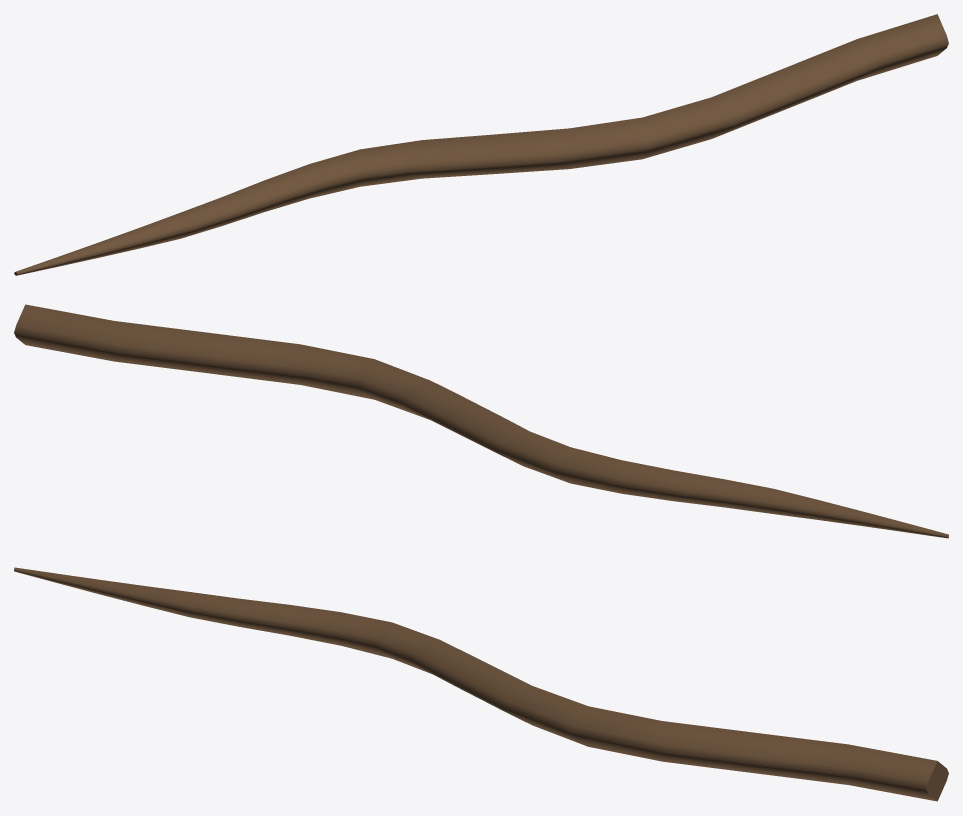
Rendered from SM_Skyisland_Root_Var1.fbx.
3 views of the same model, one above another, from view 1: azimuth 30°, elevation 25°; view 2: azimuth 150°, elevation 25°; view 3: azimuth 330°, elevation 25° (orthographic). The views are drawn at different scales.
Parts seen in each view (by area): view 1: BezierCurve.063; view 2: BezierCurve.063; view 3: BezierCurve.063.
Boxes of the visible parts, left/top/right/bottom form: BezierCurve.063: left=14, top=14, right=948, bottom=275; BezierCurve.063: left=14, top=304, right=948, bottom=538; BezierCurve.063: left=14, top=567, right=948, bottom=801.
Bounding box in the file's own units: 943 × 40.26 × 108.
